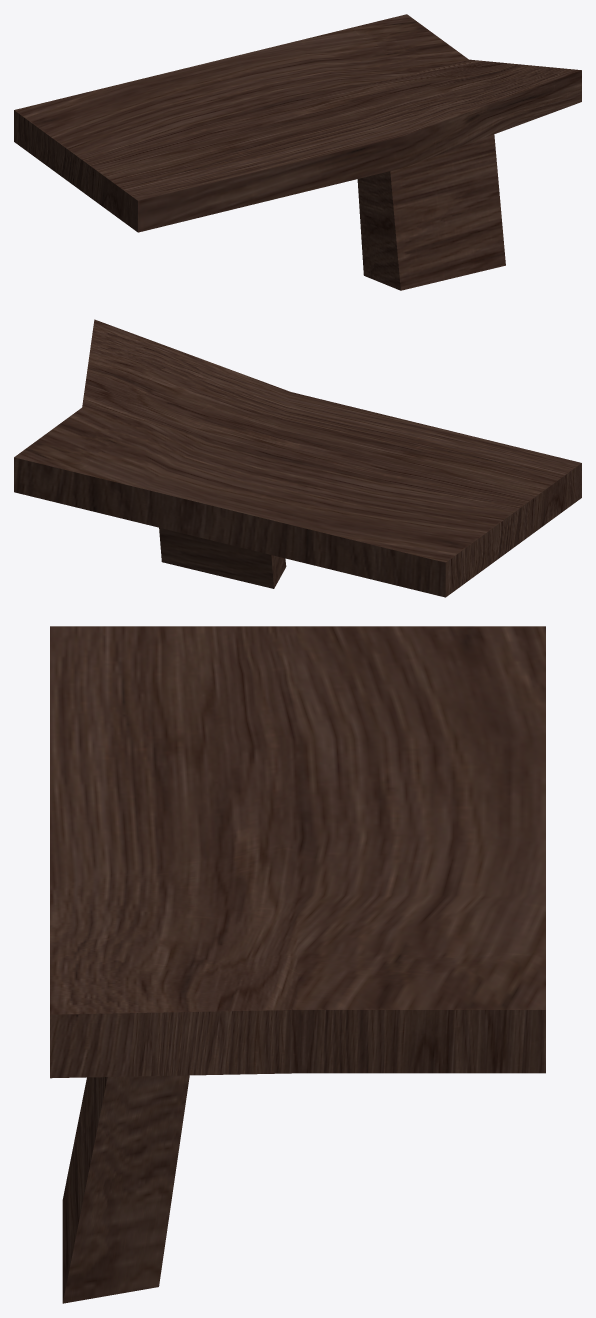
File: NNJ0510017.fbx
3 views of the same model, one above another, from view 1: azimuth 30°, elevation 25°; view 2: azimuth 150°, elevation 25°; view 3: azimuth 270°, elevation 25° (orthographic). The views are drawn at different scales.
Parts seen in each view (by area): view 1: smNNJ0510017; view 2: smNNJ0510017; view 3: smNNJ0510017.
Part boxes in pixels (left/top/right/bottom): smNNJ0510017: left=14, top=14, right=581, bottom=290; smNNJ0510017: left=14, top=319, right=581, bottom=597; smNNJ0510017: left=50, top=626, right=545, bottom=1303.
Bounding box in the file's own units: 110 × 42.71 × 53.36.
1 material, 1 textured.
